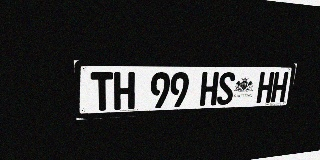9: (150, 72, 171, 108), (169, 72, 190, 107)
H: (114, 72, 135, 110), (200, 72, 219, 106), (256, 72, 275, 103), (270, 72, 289, 103)
S: (216, 72, 236, 105)
T: (91, 72, 113, 111)
